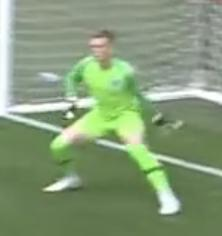goalkeeper: (32, 16, 200, 220)
